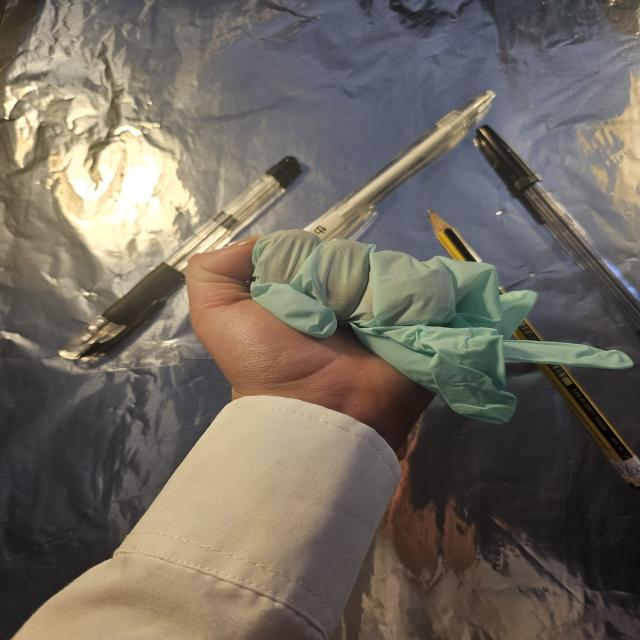glove_partial: (183, 228, 634, 452)
